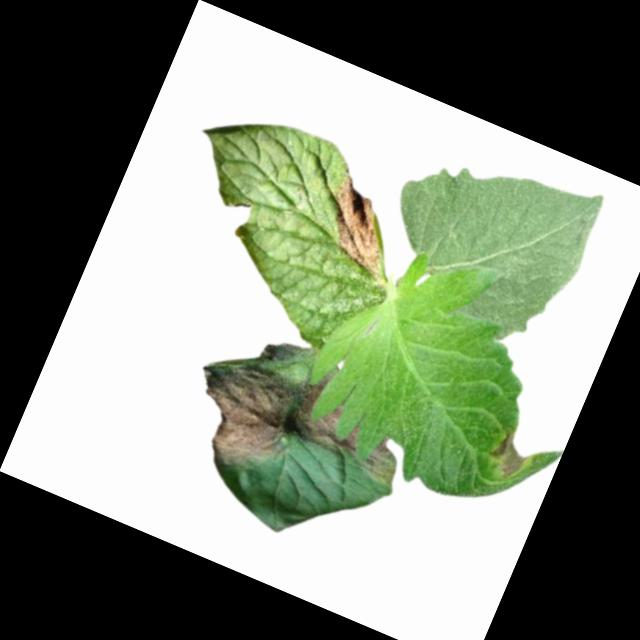Late_blight: (174, 344, 307, 484), (282, 378, 416, 486), (304, 166, 416, 285), (481, 420, 543, 488), (259, 331, 316, 379)
healthy: (360, 120, 609, 360)
